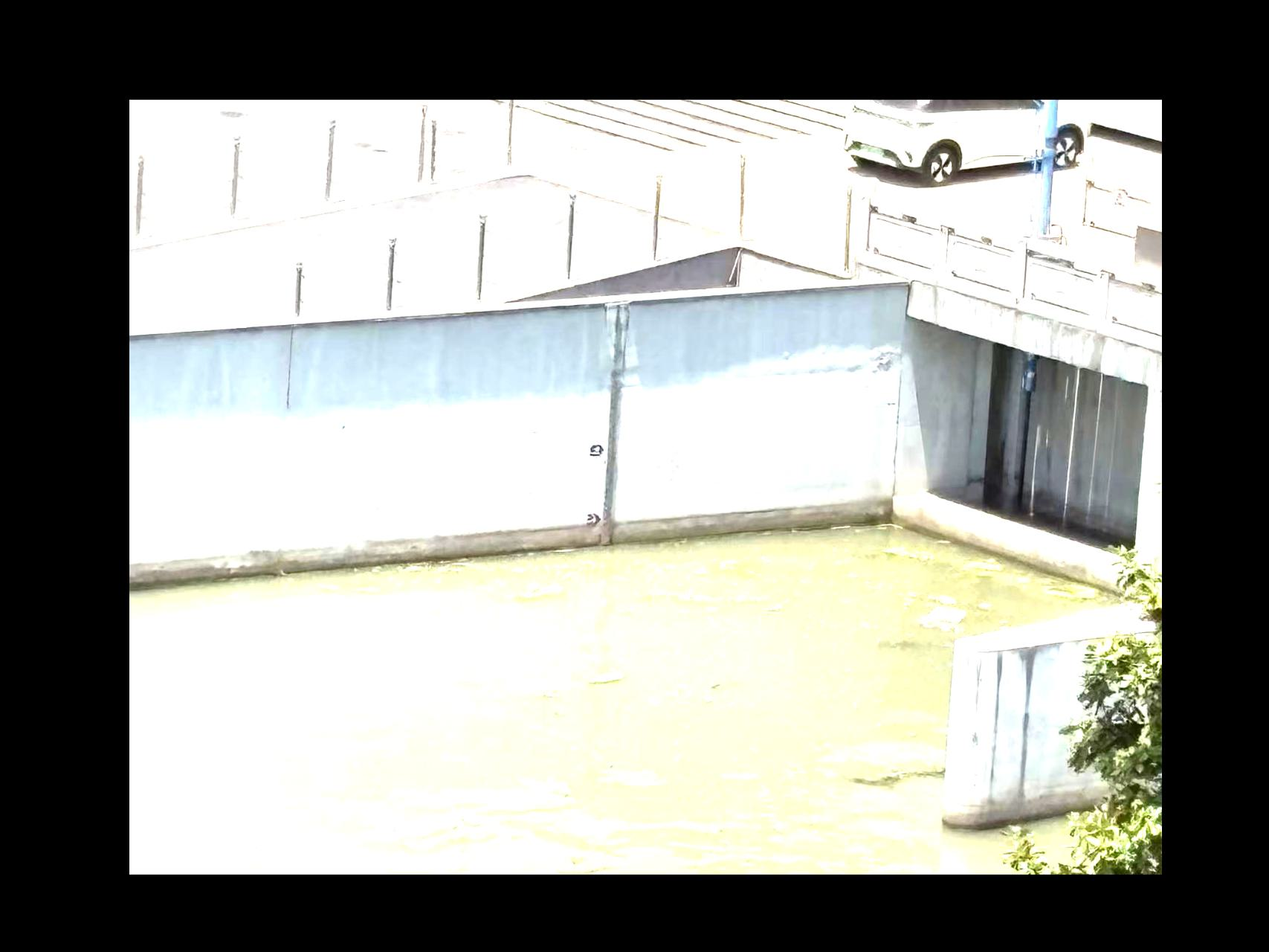Other: (658, 588, 763, 604), (508, 580, 569, 602), (858, 771, 915, 783), (1052, 586, 1097, 599), (589, 669, 623, 685), (889, 545, 932, 557), (963, 559, 997, 574)
Plastic wastes: (923, 609, 965, 623)
